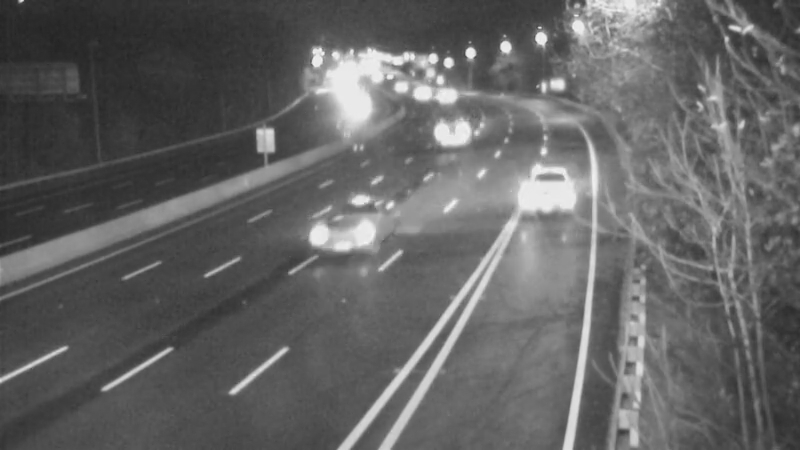vehicle: (510, 155, 590, 235), (305, 190, 385, 270), (374, 60, 424, 110), (394, 67, 444, 117), (425, 70, 475, 120), (423, 103, 473, 153)
